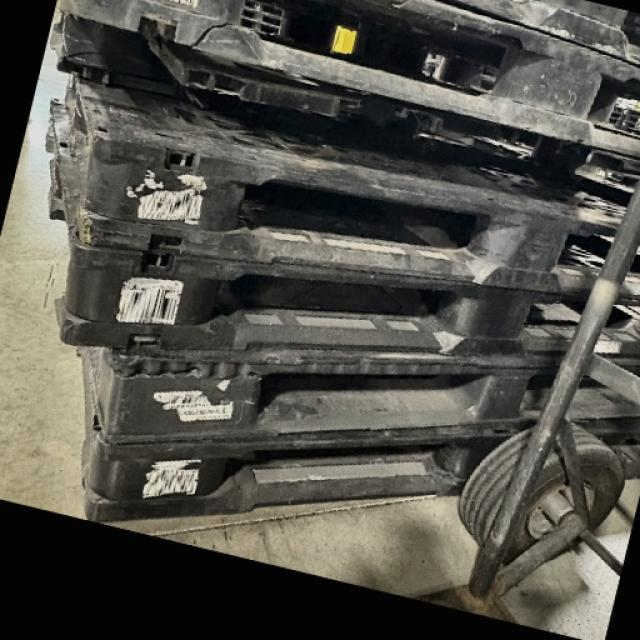igps: (37, 68, 640, 309), (30, 0, 640, 169), (50, 223, 640, 383), (91, 412, 640, 526), (95, 353, 640, 455)
